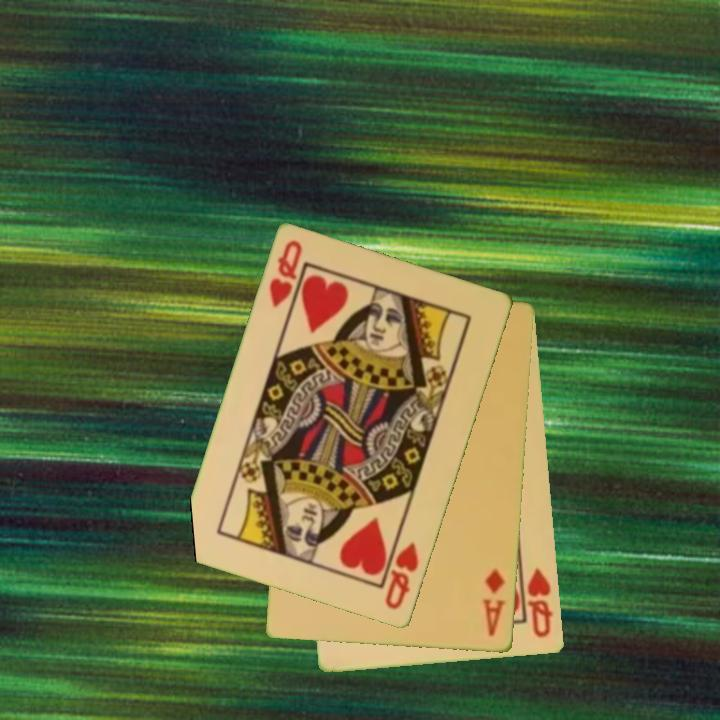Ad: (479, 566, 509, 640)
Qh: (382, 539, 422, 613), (266, 237, 306, 311), (524, 565, 556, 641)
